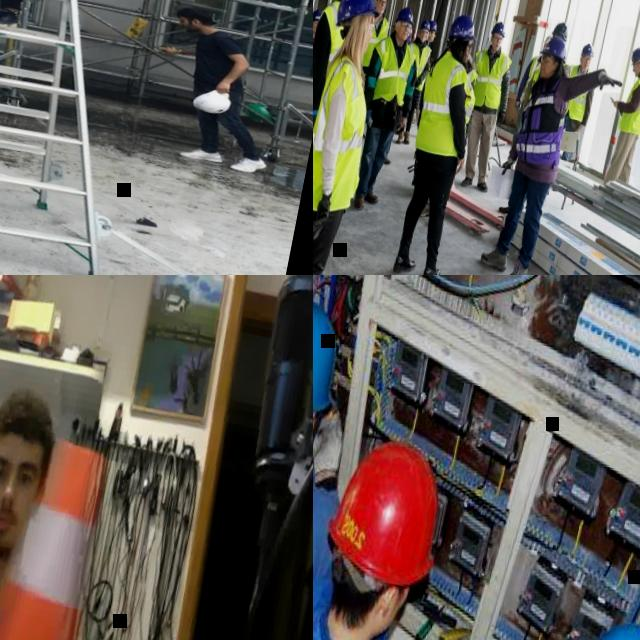Hardhat: (320, 431, 456, 592), (313, 291, 351, 417), (334, 0, 384, 34), (188, 83, 234, 119), (448, 10, 482, 41), (538, 33, 570, 62), (394, 4, 418, 26), (552, 19, 570, 41), (490, 19, 508, 37), (629, 44, 640, 66), (580, 41, 596, 56), (313, 6, 323, 24), (428, 18, 440, 32), (420, 17, 432, 31), (544, 31, 553, 42), (408, 26, 413, 37)
NO-Hardhat: (0, 388, 59, 453), (174, 1, 216, 25)
NO-Mask: (0, 506, 21, 557), (370, 599, 397, 637), (180, 19, 201, 33), (538, 63, 554, 77), (397, 28, 410, 41), (364, 35, 372, 54), (580, 60, 590, 70), (490, 41, 500, 51), (463, 48, 470, 62), (374, 4, 384, 13), (633, 64, 640, 76), (418, 33, 426, 40), (428, 35, 434, 42), (313, 24, 317, 32)
NO-Safety Vest: (190, 28, 248, 97)
Person: (0, 374, 158, 640), (313, 422, 498, 640), (477, 27, 629, 275), (385, 5, 492, 275), (137, 0, 295, 175), (313, 278, 388, 640), (313, 0, 396, 275), (340, 0, 429, 216), (313, 0, 373, 249), (451, 15, 524, 192), (518, 13, 582, 118), (595, 41, 640, 190), (551, 37, 604, 163), (389, 15, 438, 148), (506, 26, 552, 151), (402, 17, 440, 136), (357, 0, 399, 85), (313, 3, 325, 144)
Safety Cone: (0, 418, 146, 640)
Safety Vest: (313, 48, 383, 217), (412, 46, 483, 159), (512, 66, 577, 168), (364, 32, 420, 105), (313, 0, 354, 84), (466, 44, 514, 110), (530, 56, 572, 105), (560, 61, 594, 118), (361, 13, 392, 69), (616, 67, 640, 136), (401, 39, 433, 90), (518, 51, 542, 112), (421, 44, 433, 80), (313, 26, 320, 82), (466, 66, 480, 83)
